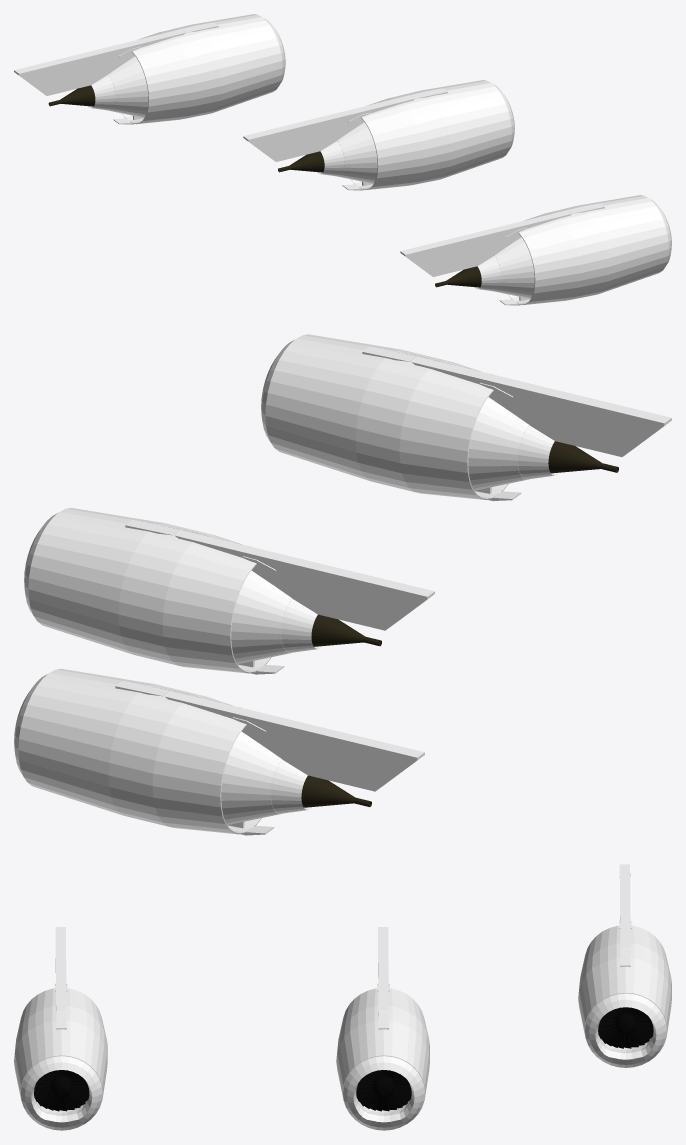
The picture shows the model from 3 angles, top to bottom: view 1: azimuth 30°, elevation 25°; view 2: azimuth 150°, elevation 25°; view 3: azimuth 270°, elevation 25°; orthographic projection. The views are drawn at different scales.
Parts seen in each view (by area): view 1: 立方体.001, 立方体, 立方体.002, 円柱.004, 円柱.008, 円柱.002; view 2: 立方体.002, 立方体, 立方体.001, 円柱.008, 円柱.004, 円柱.002; view 3: 立方体.001, 立方体.002, 立方体, 円柱.003, 円柱.006, 円柱.001, 円柱.009, 円柱.005, 円柱.007.
Part boxes in pixels (<box>): 立方体.001: <box>400,195,668,305</box>; 立方体: <box>243,80,511,190</box>; 立方体.002: <box>14,14,281,124</box>; 円柱.004: <box>278,122,377,183</box>; 円柱.008: <box>48,56,148,117</box>; 円柱.002: <box>435,237,534,298</box>; 立方体.002: <box>19,668,424,835</box>; 立方体: <box>29,507,434,674</box>; 立方体.001: <box>266,334,671,501</box>; 円柱.008: <box>221,731,371,824</box>; 円柱.004: <box>231,570,381,664</box>; 円柱.002: <box>468,397,618,490</box>; 立方体.001: <box>14,927,107,1117</box>; 立方体.002: <box>578,864,671,1056</box>; 立方体: <box>336,927,429,1118</box>; 円柱.003: <box>343,1056,424,1130</box>; 円柱.006: <box>585,993,666,1067</box>; 円柱.001: <box>20,1056,102,1130</box>; 円柱.009: <box>598,1007,653,1048</box>; 円柱.005: <box>34,1070,89,1111</box>; 円柱.007: <box>356,1070,411,1111</box>.
Size of the model in its own units: 11.83 by 2.78 by 17.95.
